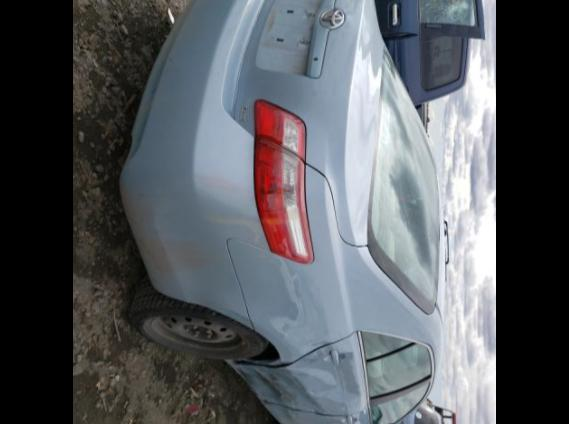Broken part: (226, 330, 354, 370), (258, 396, 368, 418)
Corrosion: (118, 188, 202, 292), (260, 10, 278, 56), (292, 58, 310, 76)
Dent: (290, 350, 358, 406), (256, 366, 320, 410), (236, 366, 280, 398), (274, 406, 290, 418), (310, 340, 328, 346)
Missing part: (262, 4, 316, 50)
Paint chip: (266, 378, 280, 388), (280, 392, 290, 400)
